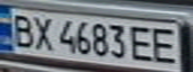3: (106, 21, 130, 61)
4: (54, 17, 75, 54)
6: (72, 19, 93, 56)
8: (90, 20, 112, 58)
B: (6, 11, 36, 48)
E: (148, 25, 184, 66), (127, 22, 160, 63)
X: (30, 14, 57, 52)
